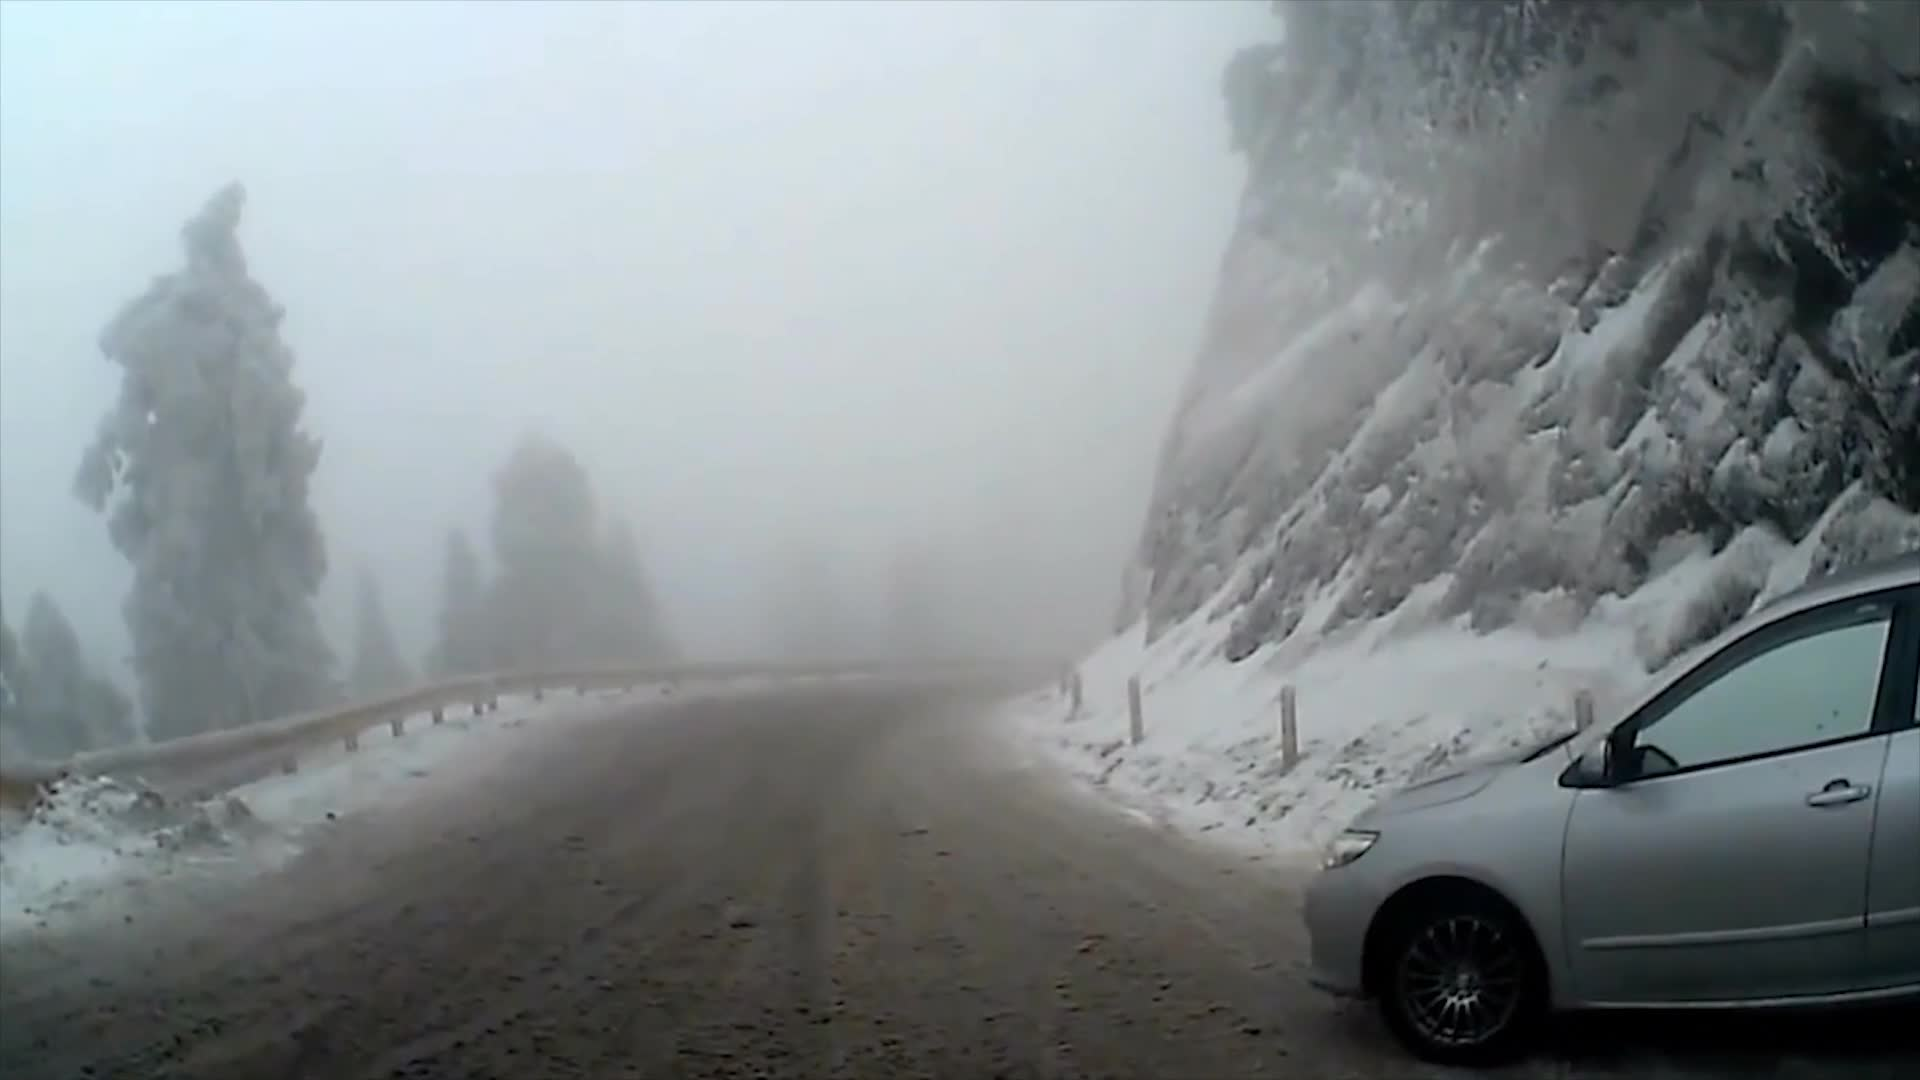vehicle: (1299, 550, 1920, 1072)
